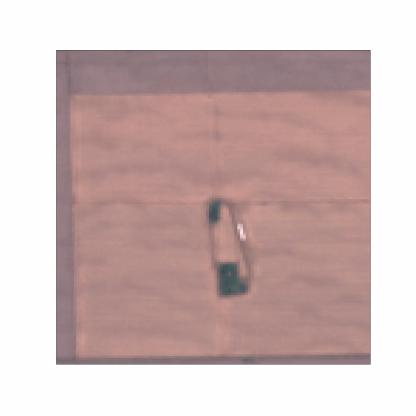silobolsa: (236, 219, 248, 244)
